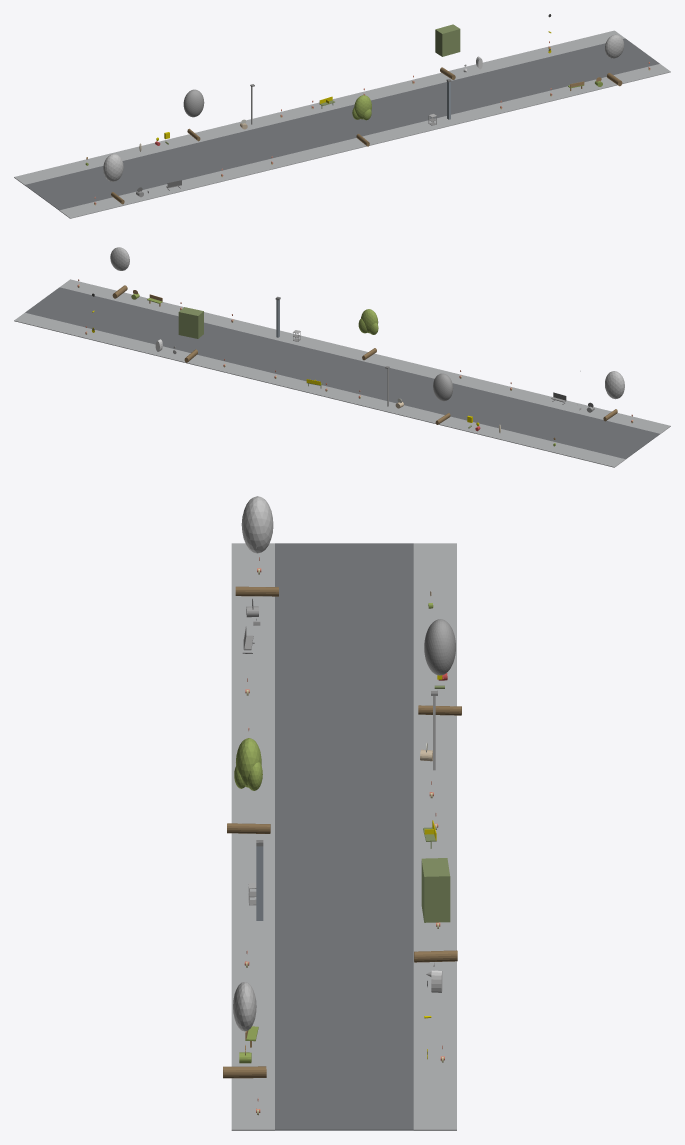
The picture shows the model from 3 angles, top to bottom: view 1: azimuth 30°, elevation 25°; view 2: azimuth 150°, elevation 25°; view 3: azimuth 270°, elevation 25°; orthographic projection. The views are drawn at different scales.
Parts seen in each view (by area): view 1: road_slab, sidewalk_left, sidewalk_right, inst_0015, inst_0012, inst_0013, inst_0014, inst_0016; view 2: road_slab, sidewalk_right, sidewalk_left, inst_0015, inst_0012, inst_0013, inst_0014, inst_0016; view 3: road_slab, sidewalk_left, sidewalk_right, inst_0015, inst_0012, inst_0013, inst_0014, inst_0016.
Part boxes in pixels (x1,y1,x2,y2): road_slab: (25,38,659,210); sidewalk_left: (59,64,670,218); sidewalk_right: (14,30,624,185); inst_0015: (435,24,460,79); inst_0012: (103,154,124,204); inst_0013: (183,89,204,141); inst_0014: (352,95,371,146); inst_0016: (605,34,624,86); road_slab: (25,287,659,459); sidewalk_right: (14,312,625,467); sidewalk_left: (60,279,670,434); inst_0015: (178,307,203,362); inst_0012: (603,371,624,421); inst_0013: (433,373,453,424); inst_0014: (358,309,378,360); inst_0016: (110,247,129,298); road_slab: (275,543,413,1130); sidewalk_left: (231,543,274,1130); sidewalk_right: (413,543,456,1130); inst_0015: (414,858,457,962); inst_0012: (235,496,278,596); inst_0013: (418,619,461,715); inst_0014: (227,738,270,833); inst_0016: (223,982,266,1078).
Bounding box in the file's own units: 80 × 6.08 × 13.78.
